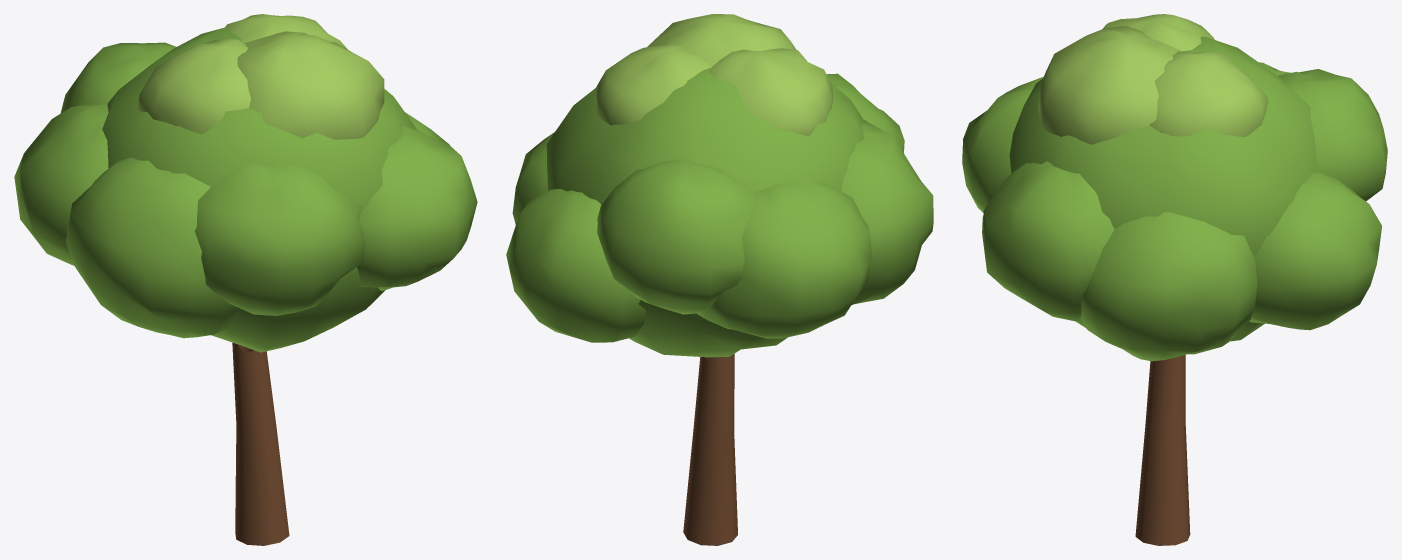
Rendered from tree_round2.glb.
The picture shows the model from 3 angles, left to right: view 1: azimuth 30°, elevation 25°; view 2: azimuth 150°, elevation 25°; view 3: azimuth 270°, elevation 25°; orthographic projection. The views are drawn at different scales.
Visible parts, largest first — view 1: tree_round2; view 2: tree_round2; view 3: tree_round2.
Boxes of the visible parts, x1,y1,x2,y2 form: tree_round2: (14, 14, 477, 545); tree_round2: (506, 14, 933, 545); tree_round2: (962, 14, 1387, 545).
Size of the model in its own units: 2.55 by 3.24 by 2.49.
